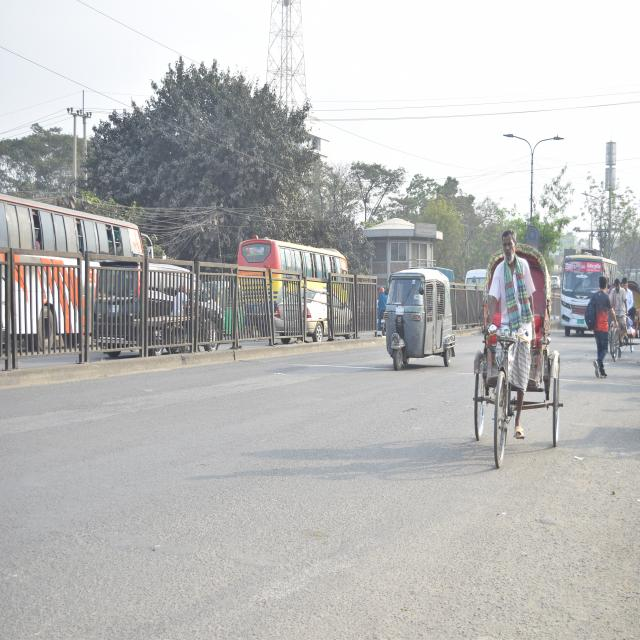bus: (0, 189, 140, 344), (236, 233, 352, 347), (556, 241, 616, 346)
microbus: (100, 248, 220, 368)
